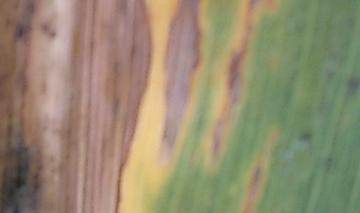tarspot: (343, 74, 360, 97), (9, 175, 27, 189), (14, 22, 26, 40), (296, 130, 313, 142), (24, 1, 35, 14), (11, 202, 20, 213), (49, 29, 57, 38)
